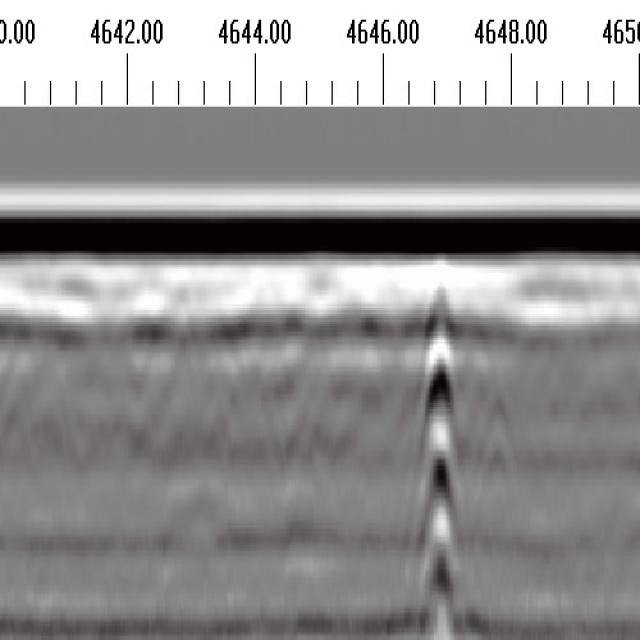crack: (426, 254, 455, 623)
